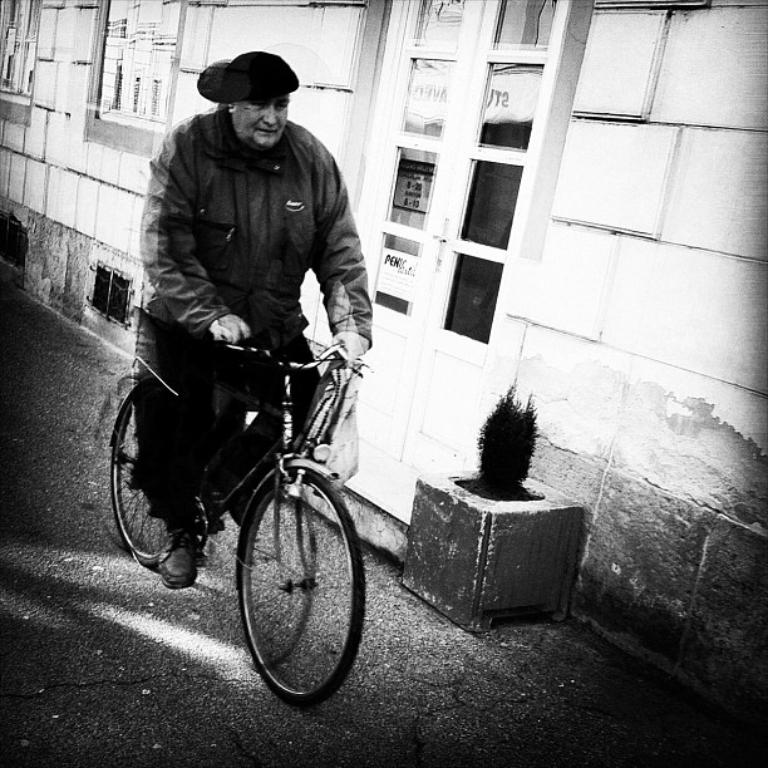Bike: (72, 309, 357, 705)
